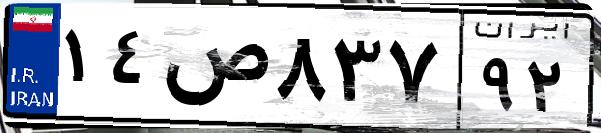1: (57, 26, 110, 100)
2: (525, 38, 570, 115)
3: (330, 28, 385, 110)
4: (110, 28, 158, 98)
7: (385, 28, 445, 110)
8: (270, 28, 330, 110)
9: (475, 38, 525, 113)
ص: (158, 20, 270, 120)
